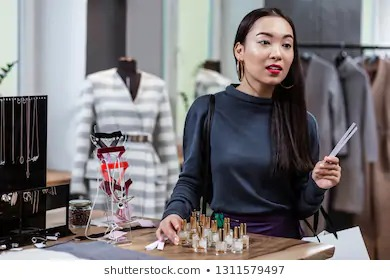S_blouse: (162, 77, 334, 228)
